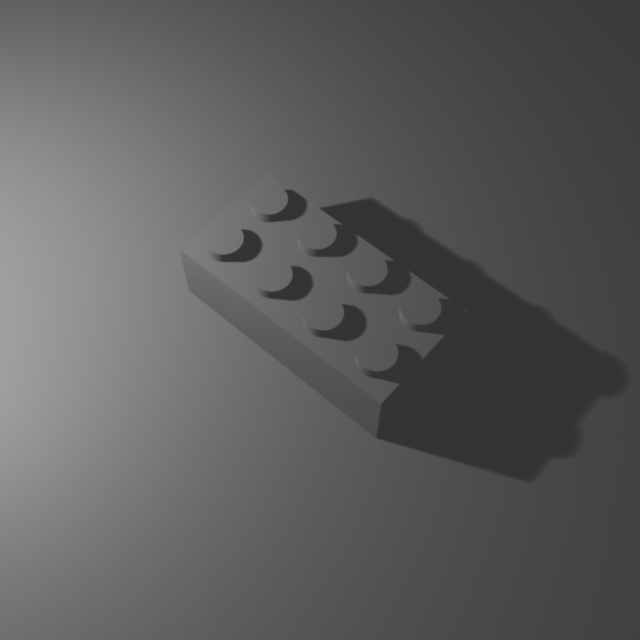lego_2x4: (177, 164, 469, 439)
